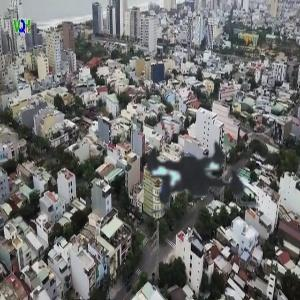drone: (95, 79, 293, 277)
